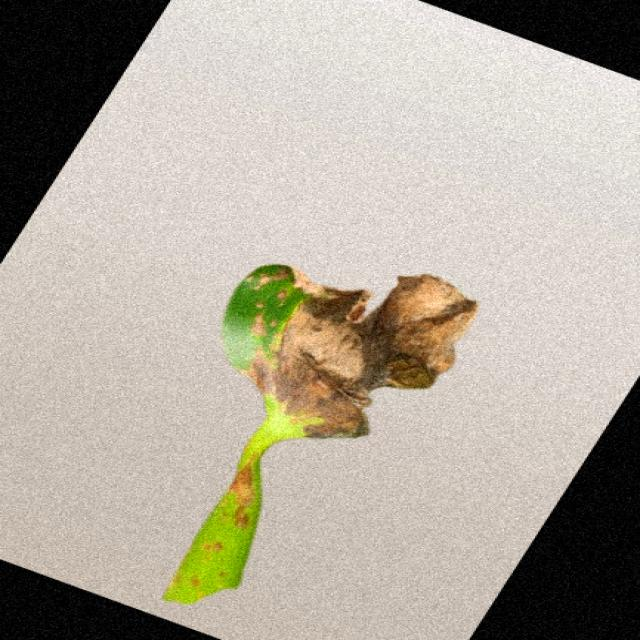daun berpenyakit karat: (165, 265, 476, 603)
